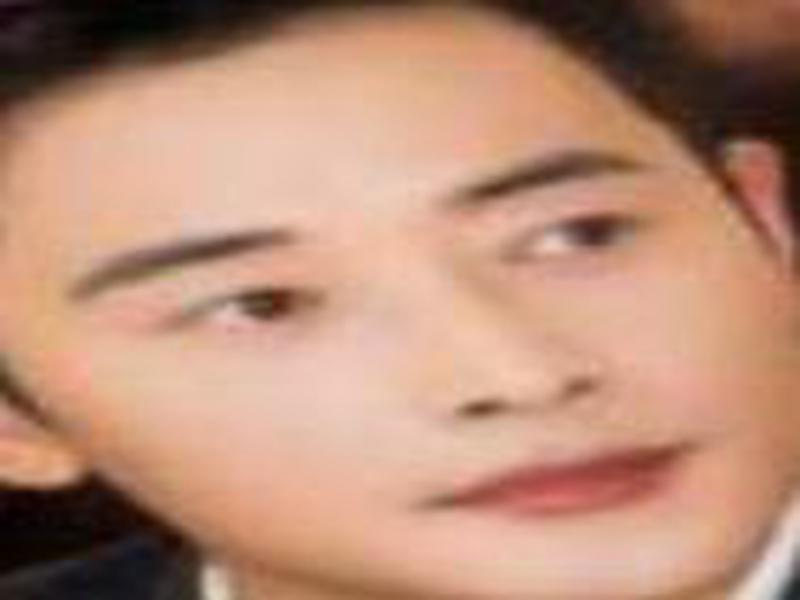without_mask: (2, 66, 789, 600)
